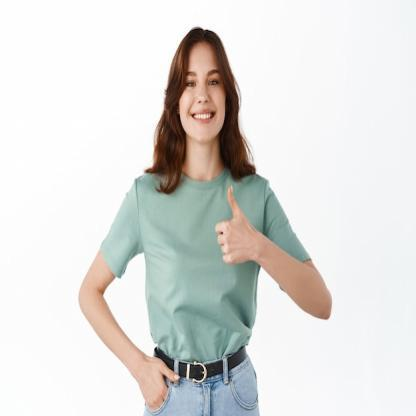thumb_up: (213, 184, 258, 278)
